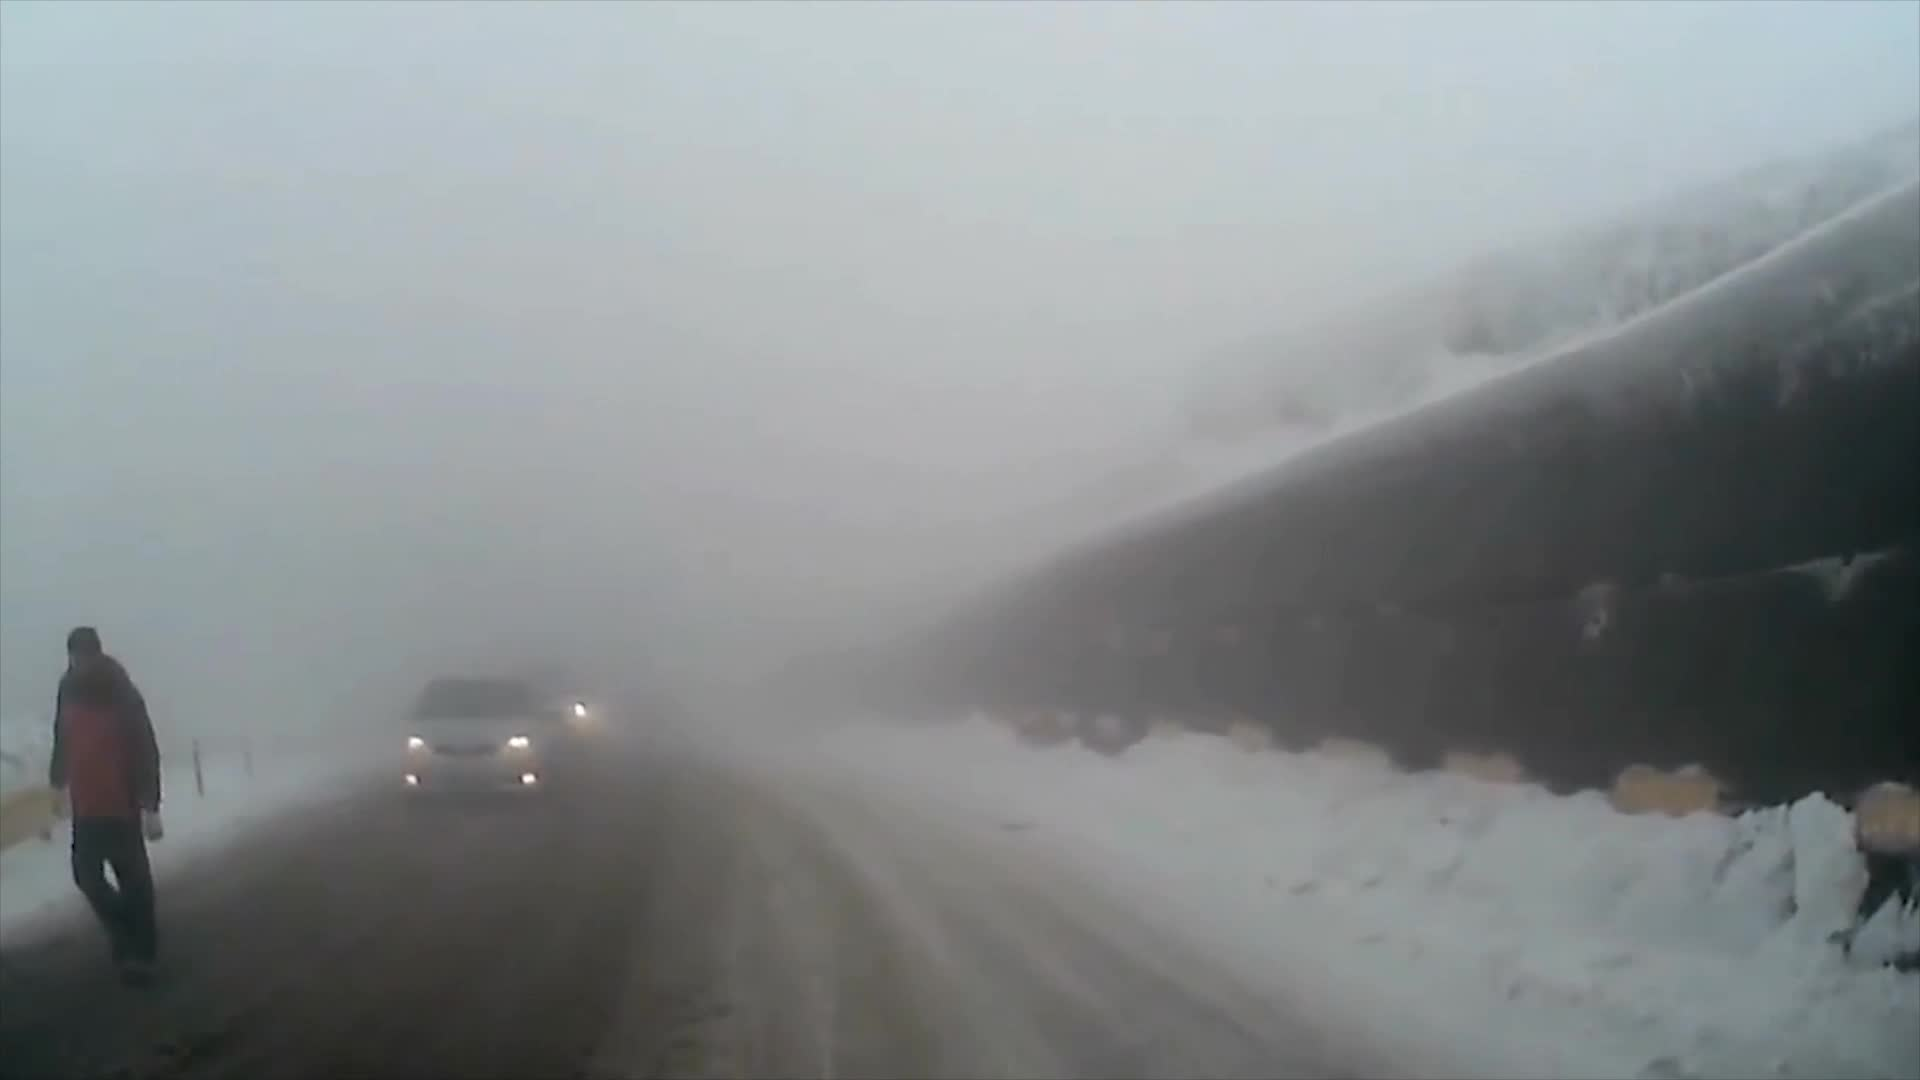pedestrian: (43, 625, 163, 983)
vehicle: (396, 674, 563, 808)
